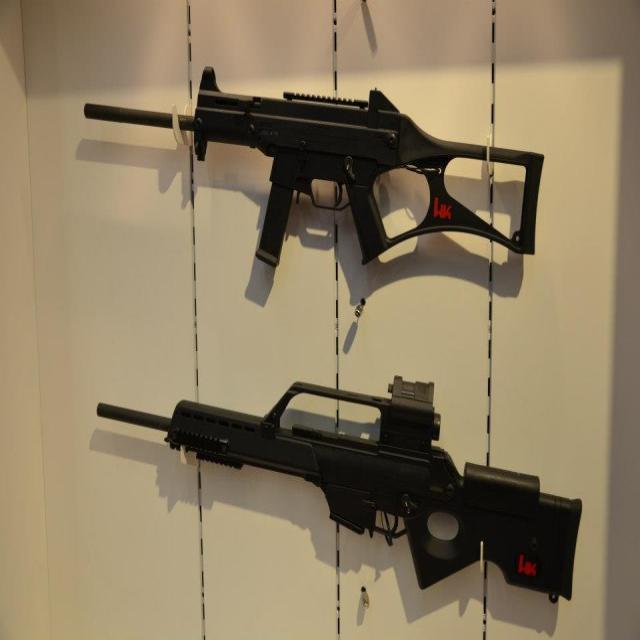firearm: (97, 373, 582, 602), (83, 67, 544, 267)
